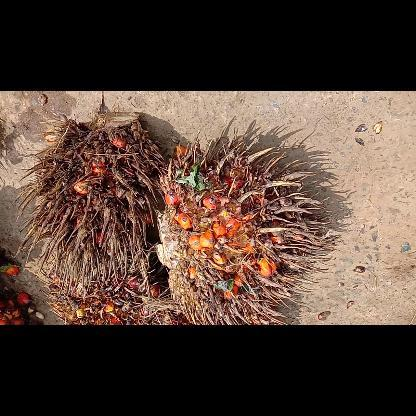Terlalu masak: (154, 124, 342, 324), (6, 108, 172, 294), (44, 254, 188, 324)
